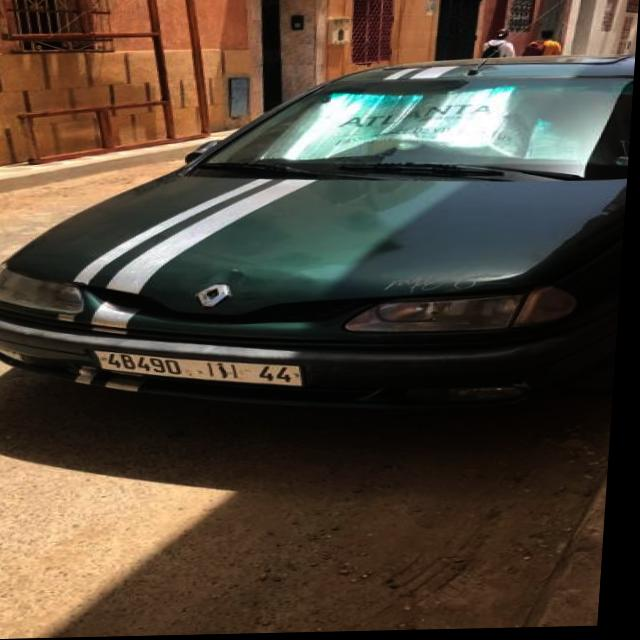License-Plate: (99, 352, 308, 387)
